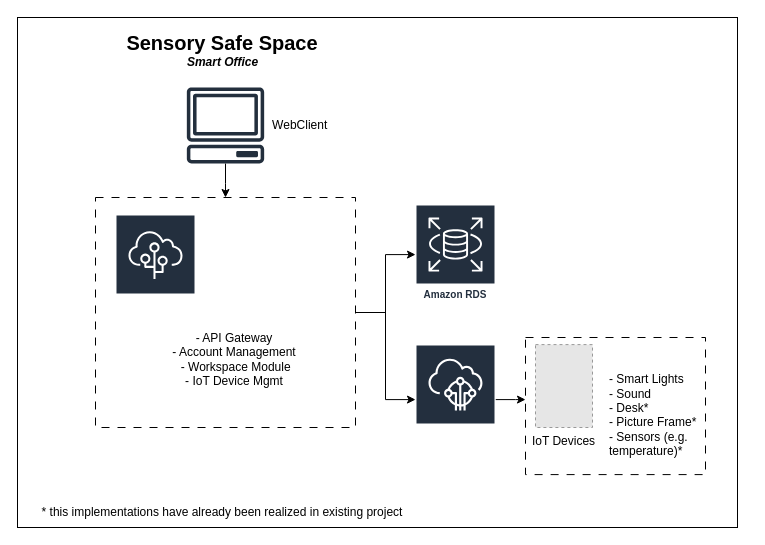
Image size: 765x545. Some labels were removed from this diagram. Grey dashed boxes stand in for pictures. The centre of each missing label's shape, as x and y in pixels:
"Amazon IoT Core" belongs at point 455,399.
"AWS Elastic Beanstalk" belongs at point 155,269.
